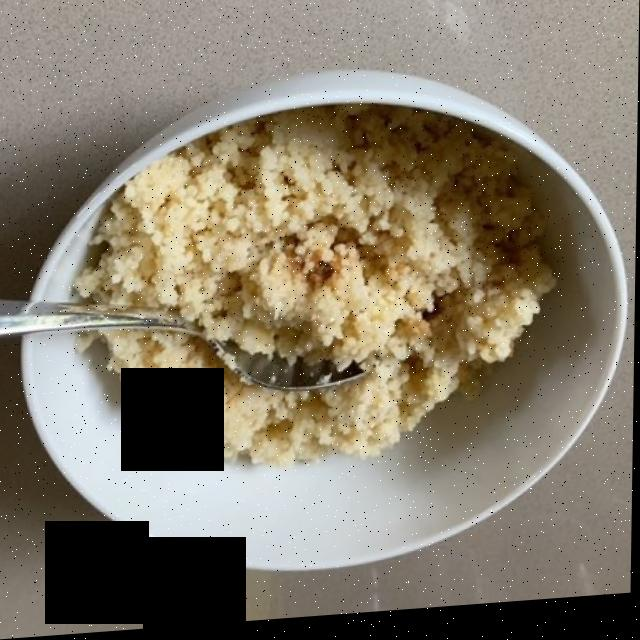couscous: (90, 119, 551, 465)
